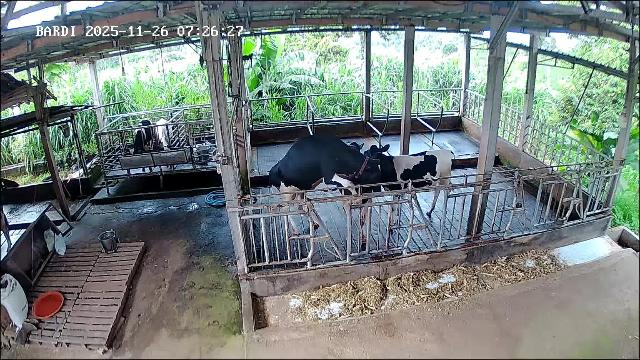mounting: (270, 134, 381, 240)
